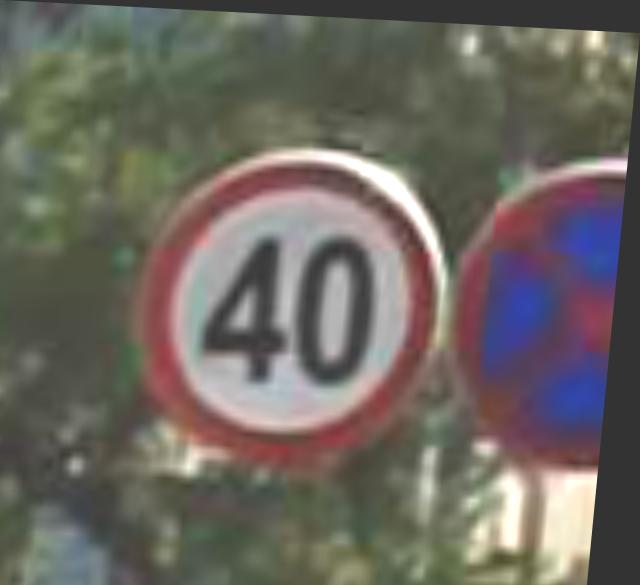limit40: (129, 137, 467, 471)
